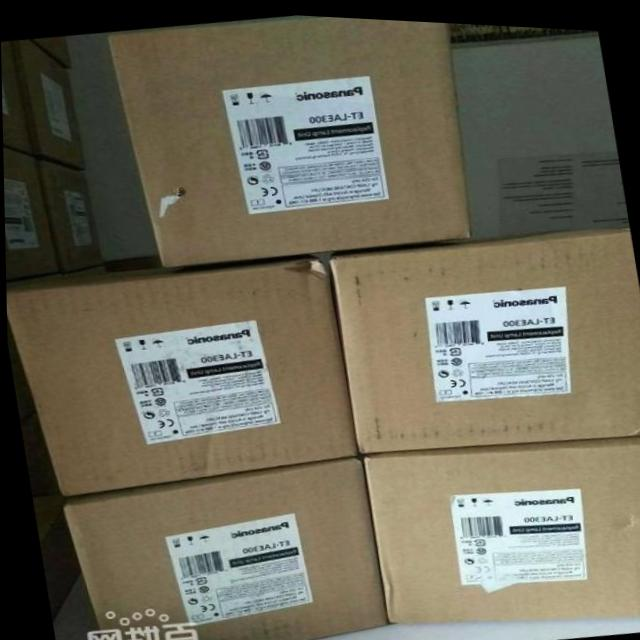box: (107, 13, 470, 265), (5, 251, 356, 495), (330, 212, 640, 451), (60, 454, 387, 640), (362, 430, 640, 621), (5, 315, 79, 618), (16, 40, 80, 166), (3, 149, 56, 284), (38, 161, 103, 271), (1, 42, 33, 158), (23, 37, 71, 69)
